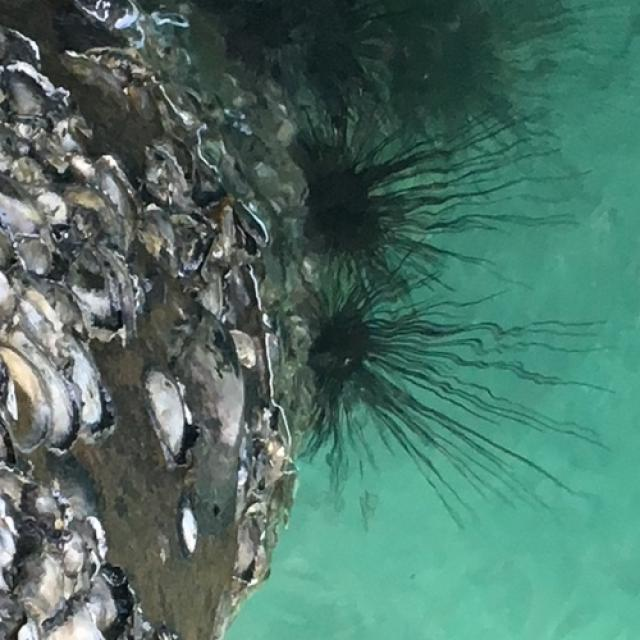Urchin: (284, 293, 618, 512), (215, 88, 598, 278)
